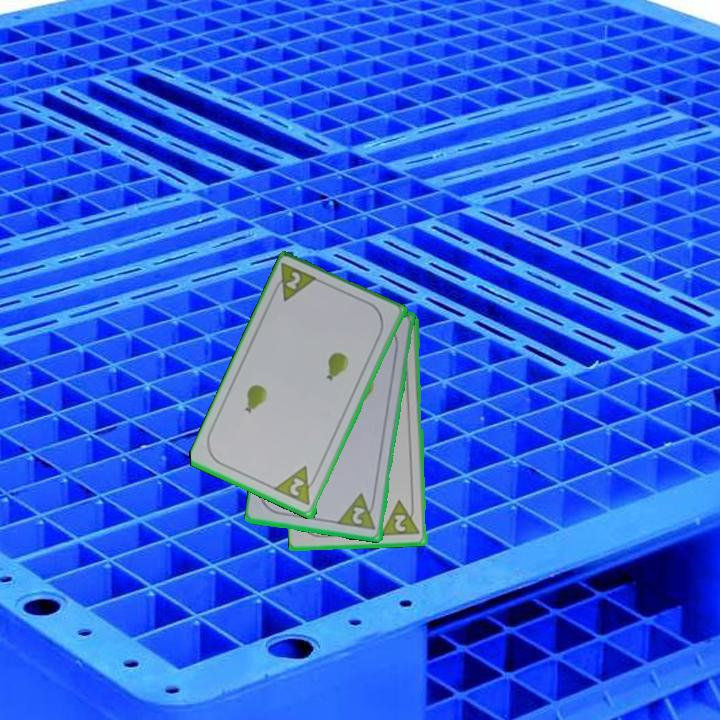2p: (268, 260, 322, 305), (272, 463, 322, 509), (335, 490, 379, 533), (379, 497, 423, 539)
